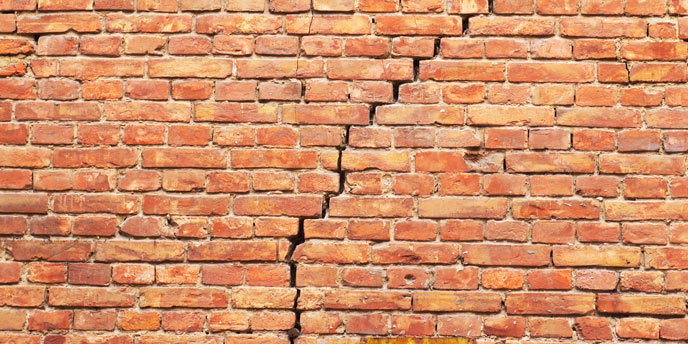stairstep_crack: (282, 0, 491, 343)
